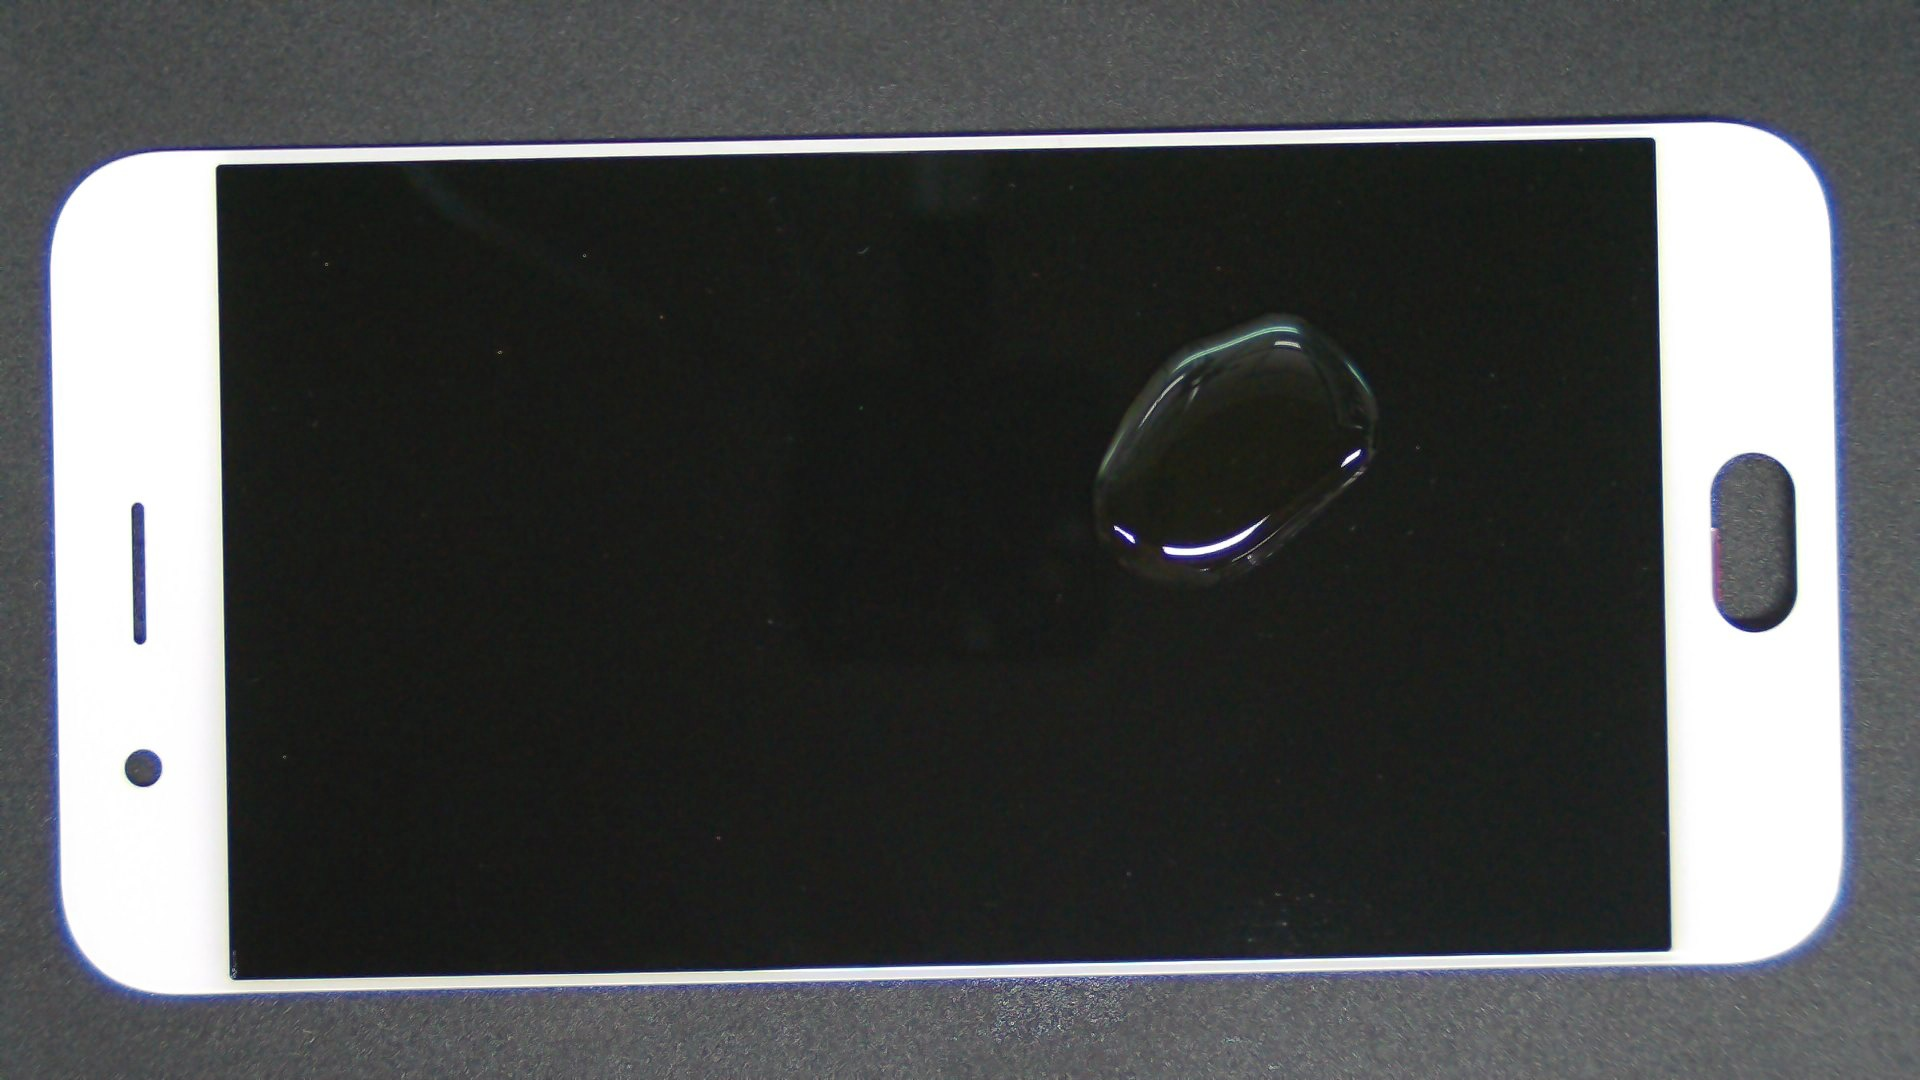oil: (641, 156, 1920, 469)
